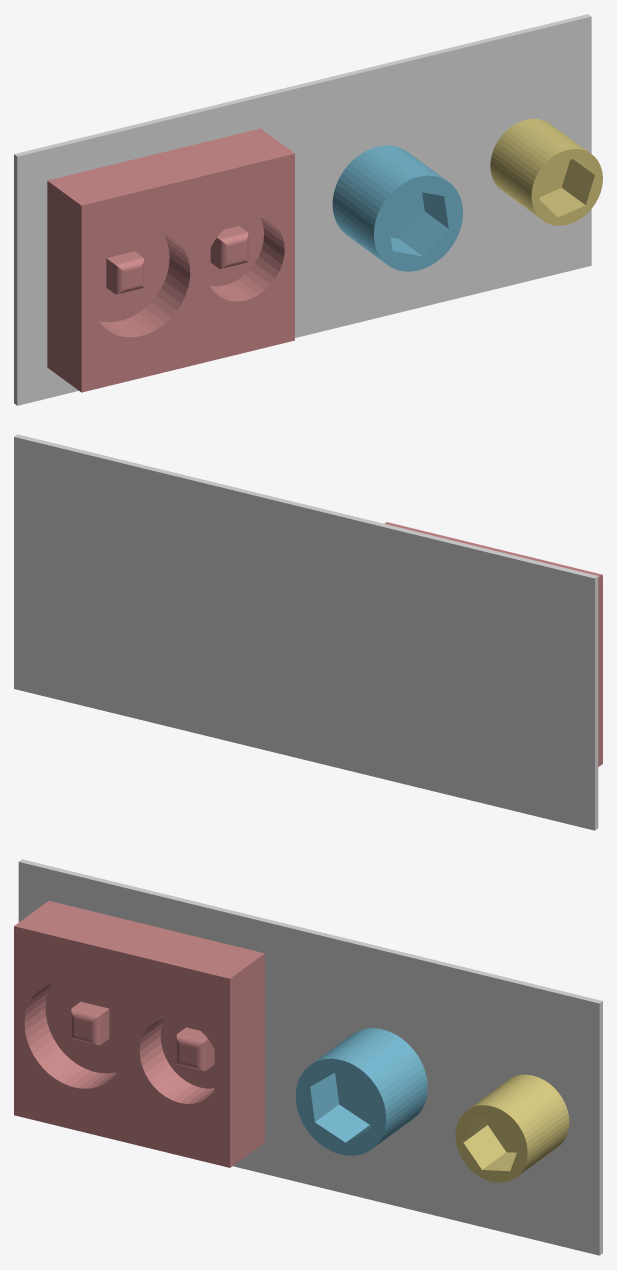
The model's file is pickup_layout.glb.
The picture shows the model from 3 angles, top to bottom: view 1: azimuth 30°, elevation 25°; view 2: azimuth 150°, elevation 25°; view 3: azimuth 330°, elevation 25°; orthographic projection.
Visible parts, largest first — view 1: world, 0.obj, 2.obj, 1.obj; view 2: world, 0.obj; view 3: world, 0.obj, 2.obj, 1.obj.
Part boxes in pixels (x1=…): world: x1=14, y1=14, x2=591, y2=405; 0.obj: x1=47, y1=128, x2=294, y2=392; 2.obj: x1=332, y1=145, x2=462, y2=271; 1.obj: x1=490, y1=119, x2=602, y2=225; world: x1=14, y1=434, x2=598, y2=830; 0.obj: x1=384, y1=522, x2=602, y2=766; world: x1=18, y1=859, x2=602, y2=1255; 0.obj: x1=14, y1=901, x2=264, y2=1167; 2.obj: x1=296, y1=1028, x2=427, y2=1155; 1.obj: x1=455, y1=1074, x2=569, y2=1182.
Bounding box in the file's own units: 19.29 × 8 × 2.6.
